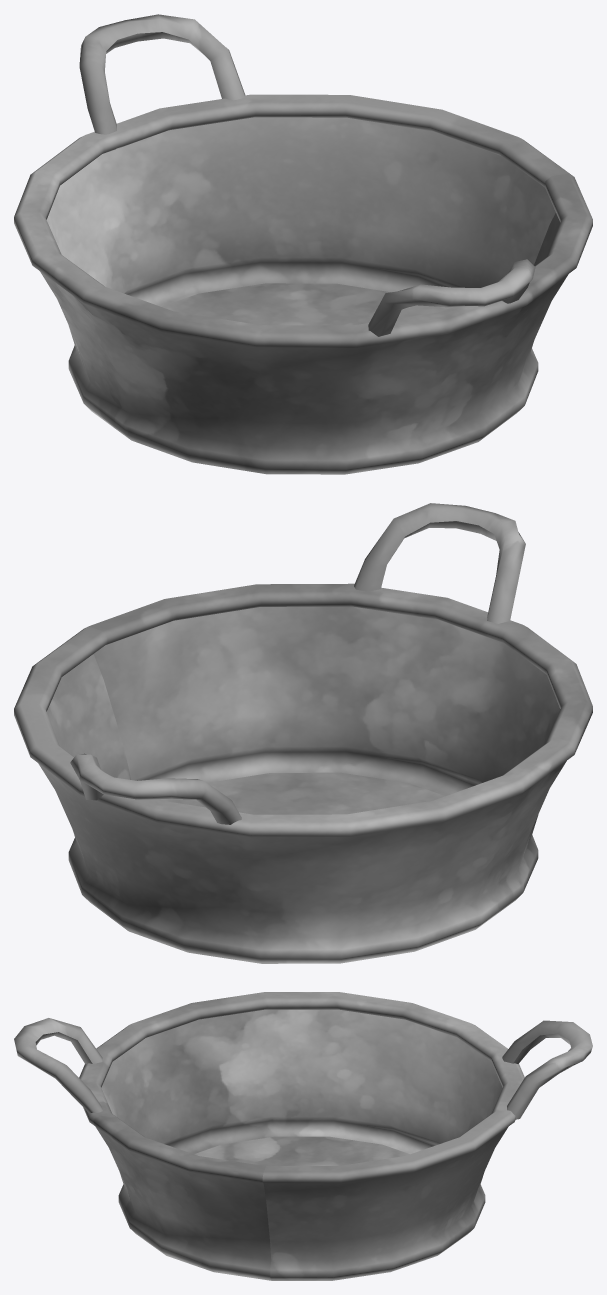
The model's file is SM_WickerBasket_03b.fbx.
The picture shows the model from 3 angles, top to bottom: view 1: azimuth 30°, elevation 25°; view 2: azimuth 150°, elevation 25°; view 3: azimuth 270°, elevation 25°; orthographic projection. The views are drawn at different scales.
Parts seen in each view (by area): view 1: SM_WickerBasket_03b_LOD0; view 2: SM_WickerBasket_03b_LOD0; view 3: SM_WickerBasket_03b_LOD0.
Boxes of the visible parts, <box> form: SM_WickerBasket_03b_LOD0: <box>14,14,592,474</box>; SM_WickerBasket_03b_LOD0: <box>14,503,592,963</box>; SM_WickerBasket_03b_LOD0: <box>14,992,592,1280</box>.
Size of the model in its own units: 53.89 by 71.69 by 23.56.
